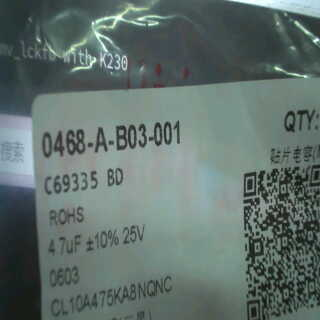4.7uF: (45, 231, 84, 260)
